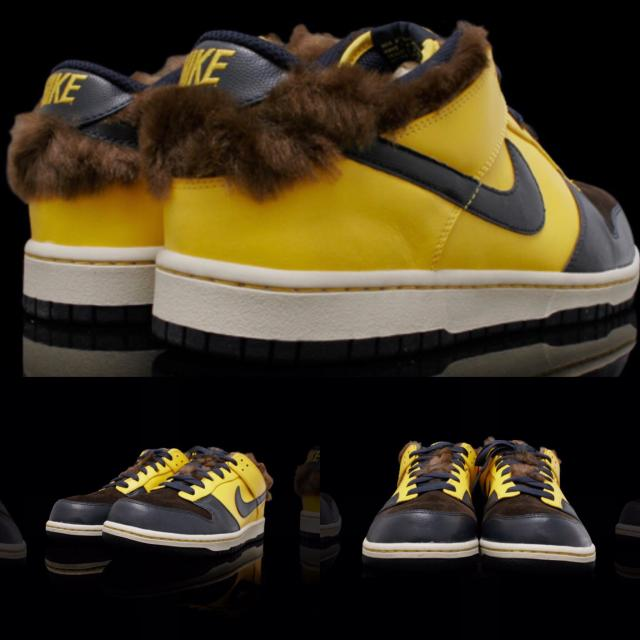shoe: (171, 0, 640, 353), (322, 393, 640, 588), (22, 19, 146, 311), (154, 411, 312, 572), (26, 425, 136, 564)
